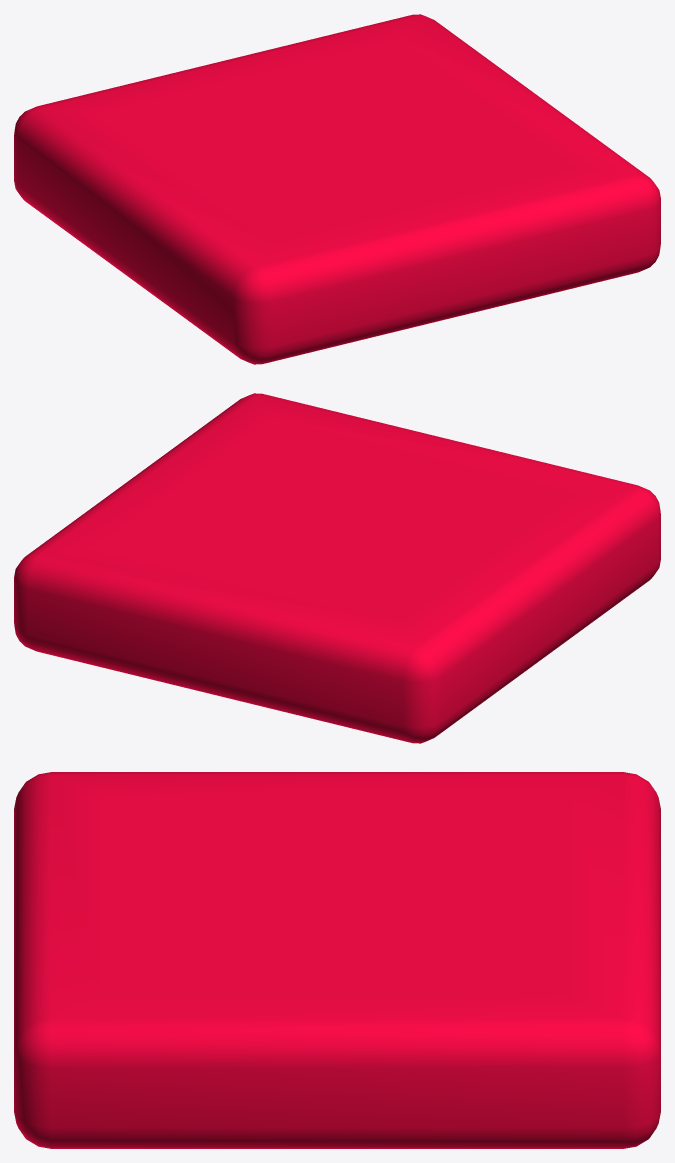
The model's file is lowpoly_platform2 (1).fbx.
The picture shows the model from 3 angles, top to bottom: view 1: azimuth 30°, elevation 25°; view 2: azimuth 150°, elevation 25°; view 3: azimuth 270°, elevation 25°; orthographic projection. The views are drawn at different scales.
Visible parts, largest first — view 1: Roundcube.001; view 2: Roundcube.001; view 3: Roundcube.001.
Part boxes in pixels (x1,y1,x2,y2): Roundcube.001: (14,14,660,364); Roundcube.001: (14,393,660,743); Roundcube.001: (14,772,660,1148).
Size of the model in its own units: 141 by 30.29 by 140.
